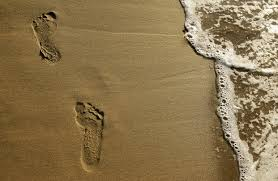human_footprint: (15, 4, 108, 176)
